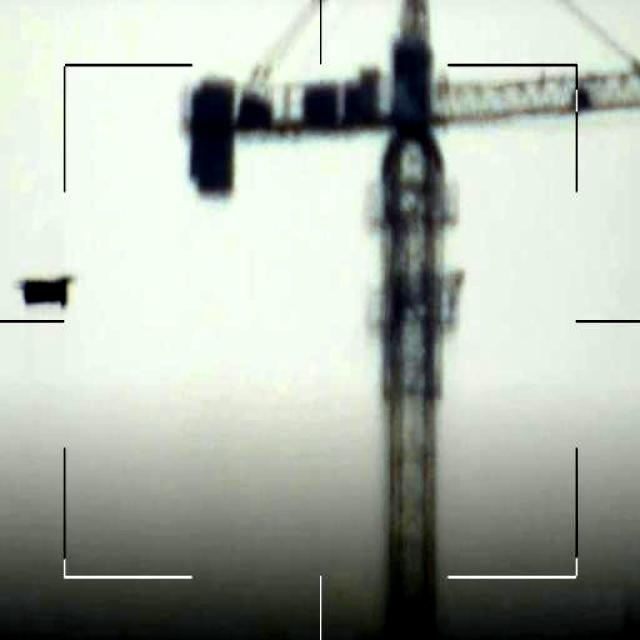bird: (25, 265, 78, 308)
